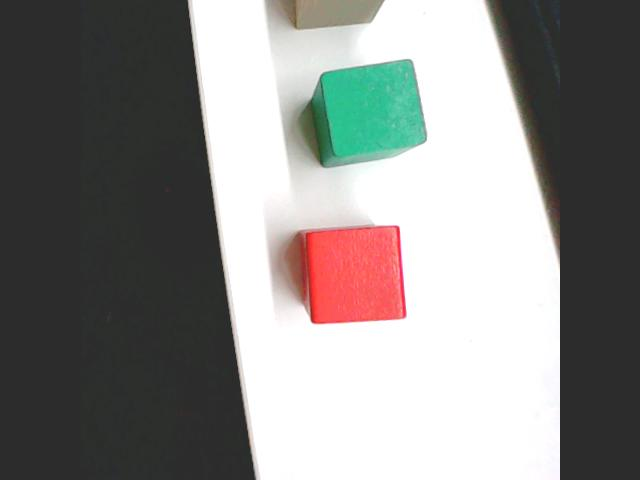green_box: (307, 56, 431, 170)
raw_box: (282, 0, 397, 31)
red_box: (296, 221, 411, 328)
